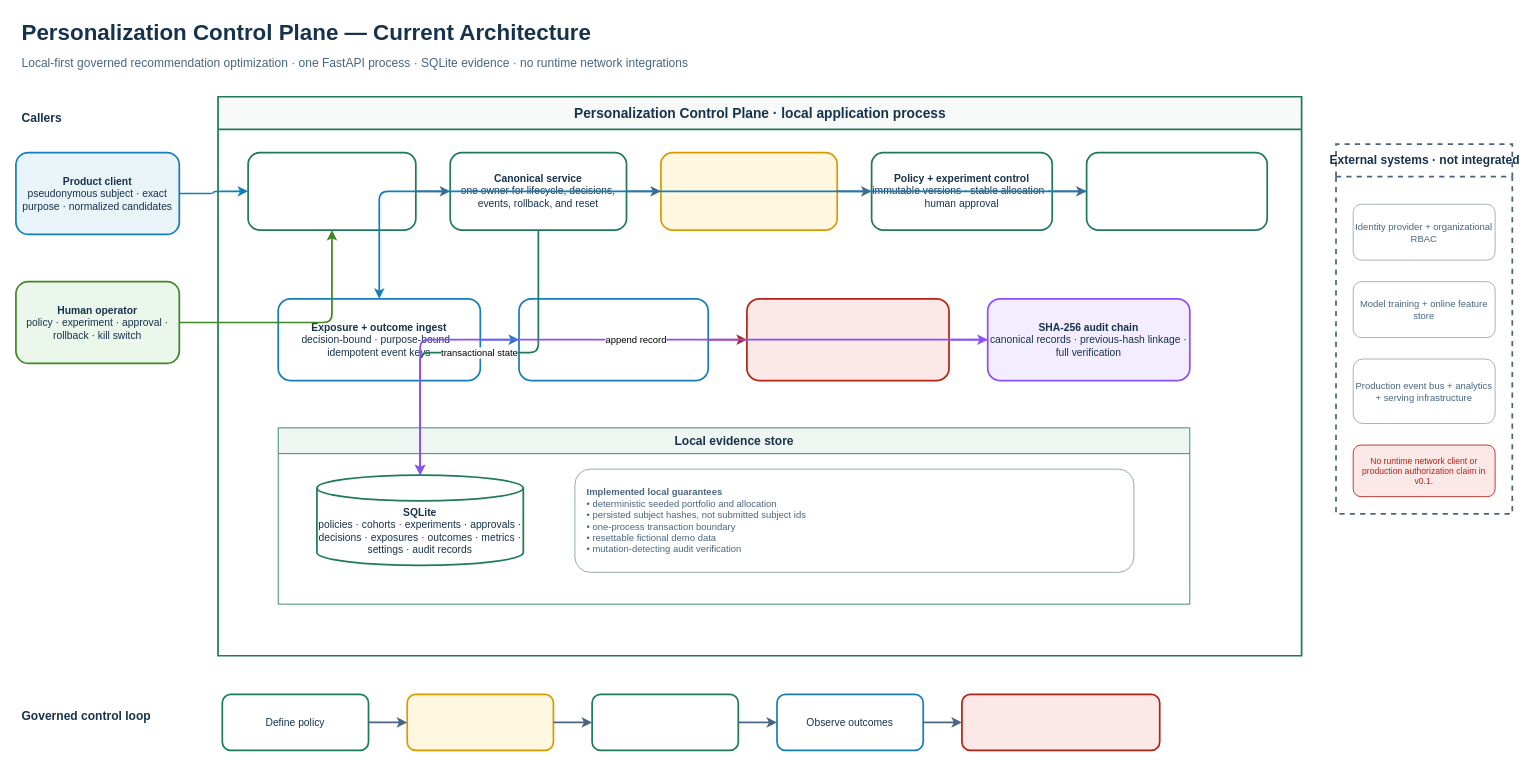
Image size: 1533x765. Some labels were removed from this diagram. Each missing label, with the centre of its shape:
Allocate + rank: point (665, 722)
Consent + purpose gate sensitive-key rejection · privacy floor · bounded risk: point (749, 190)
Continue · pause · rollback · kill: point (1060, 722)
Deterministic ranker safety exclusion · weighted objectives · factor explanation: point (1176, 190)
FastAPI contracts strict request models · browser pages · stable HTTP errors: point (331, 190)
Guardrail + fairness engine quality · harm · complaints · parity · auto-rollback: point (847, 339)
Privacy-bounded metrics small-cell suppression · aggregate group floors: point (613, 339)
Review risk: point (480, 722)
